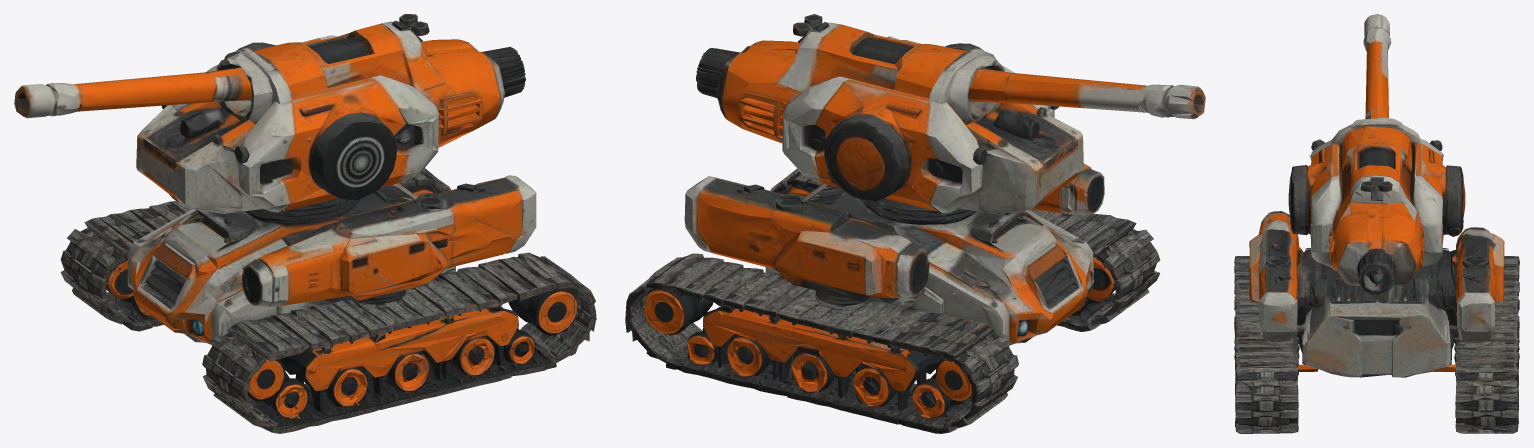
The model's file is mx_wz_artillery.glb.
3 views of the same model, side by side, from view 1: azimuth 30°, elevation 25°; view 2: azimuth 150°, elevation 25°; view 3: azimuth 270°, elevation 25° (orthographic). The views are drawn at different scales.
Bounding box in the file's own units: 1.9 × 1.18 × 1.22.
Materials: 1 (1 with a texture image).
